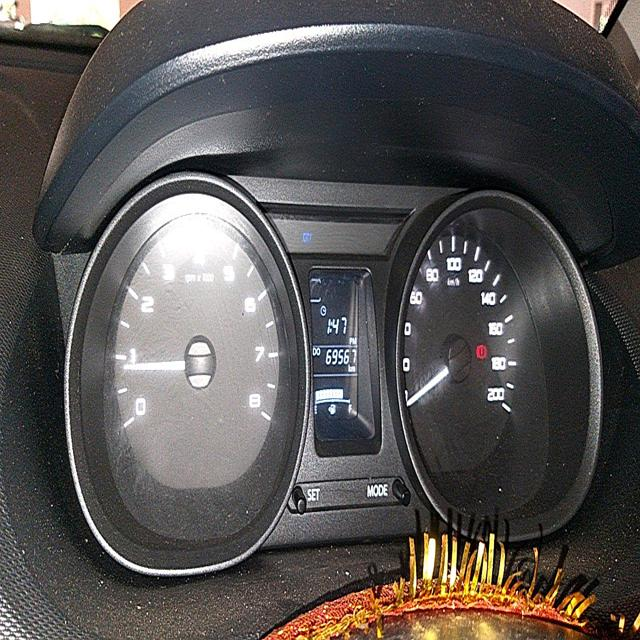odometer: (324, 345, 357, 365)
